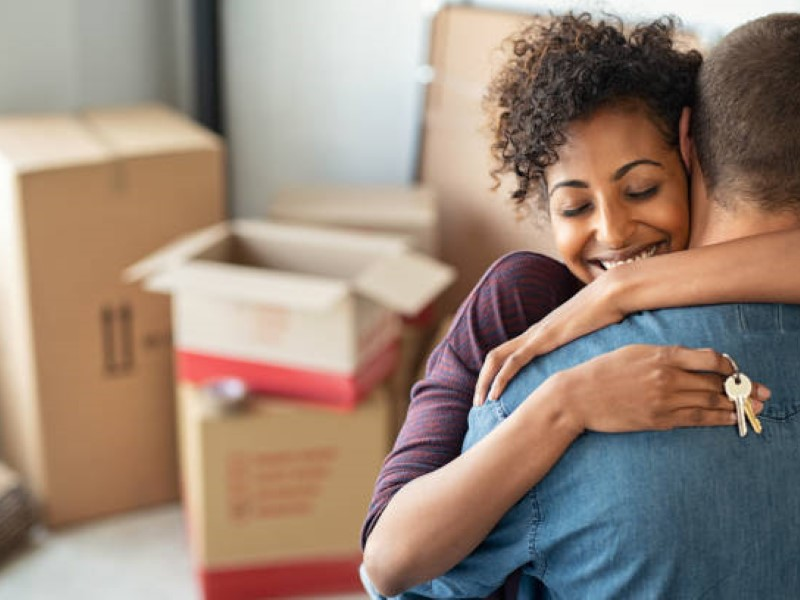key: (718, 370, 766, 441)
